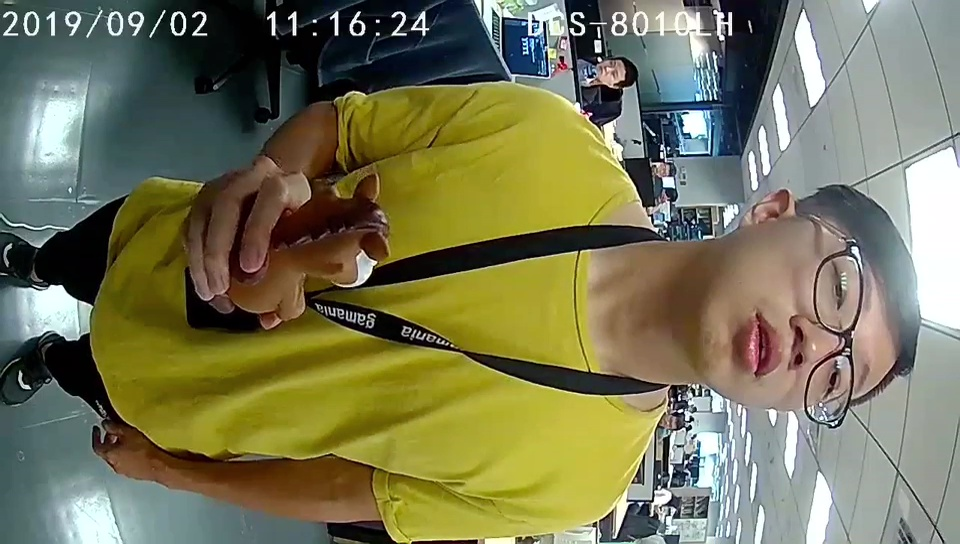horse: (282, 174, 392, 287)
